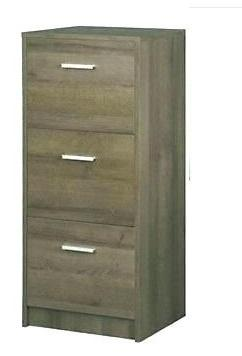cabinet_door: (28, 220, 138, 311), (29, 131, 138, 222), (25, 41, 135, 131)
handle: (59, 149, 98, 171), (59, 240, 98, 260), (58, 57, 98, 76)
